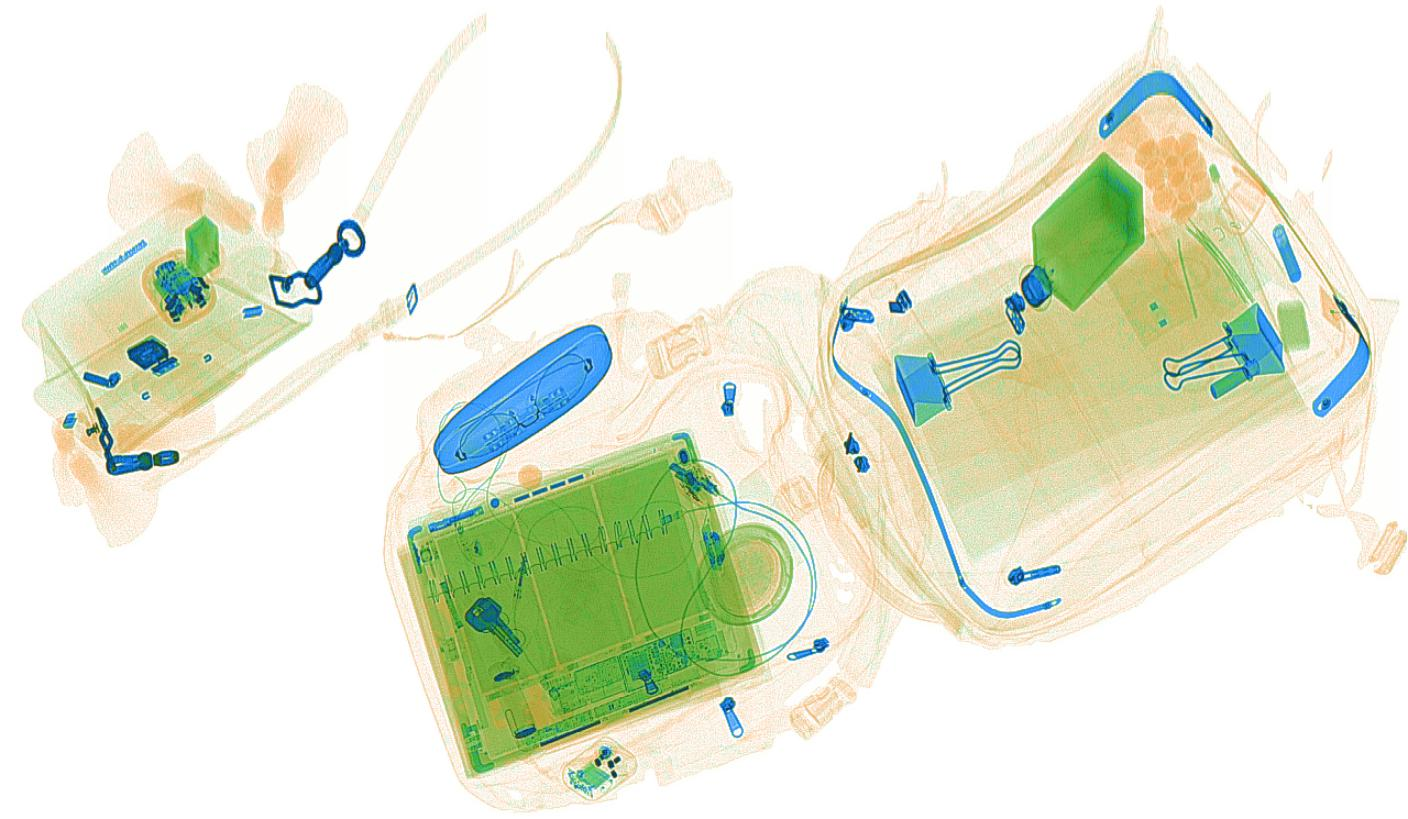battery: (1208, 358, 1262, 401), (1271, 223, 1303, 283)
